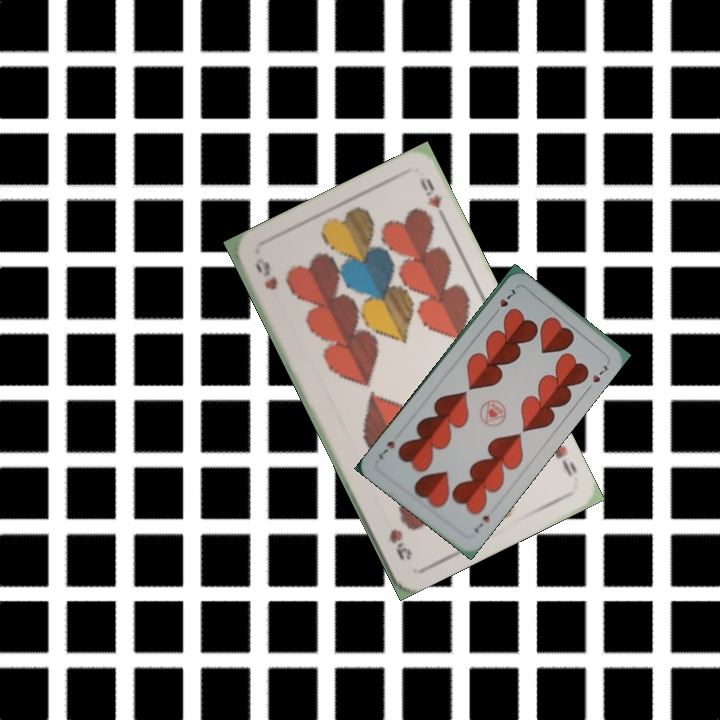H7: (489, 285, 518, 318), (470, 511, 493, 535)
H9: (549, 440, 580, 479), (251, 253, 281, 293)
